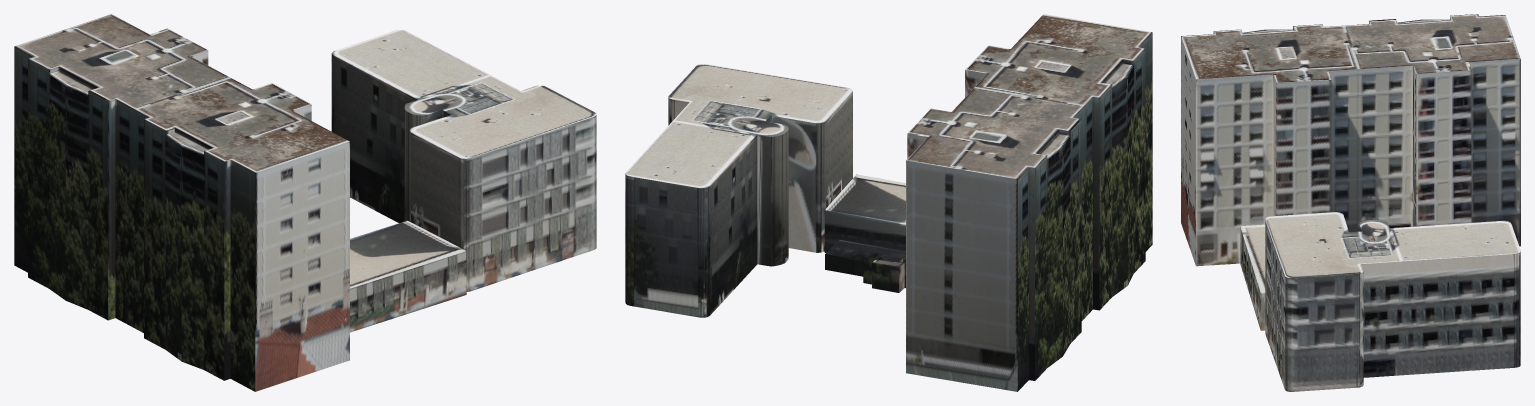
3 views of the same model, side by side, from view 1: azimuth 30°, elevation 25°; view 2: azimuth 150°, elevation 25°; view 3: azimuth 270°, elevation 25° (orthographic). The views are drawn at different scales.
Parts seen in each view (by area): view 1: Z_UP; view 2: Z_UP; view 3: Z_UP.
Part boxes in pixels (x1,y1,x2,y2): Z_UP: [14, 14, 596, 391]; Z_UP: [625, 14, 1152, 391]; Z_UP: [1181, 14, 1520, 391].
Bounding box in the file's own units: 56.1 × 25.63 × 42.2.
Materials: 2 (1 with a texture image).
